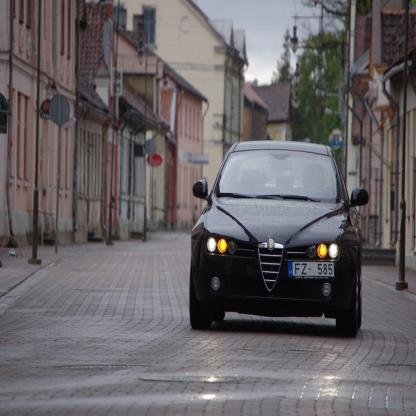Car: (190, 139, 369, 332)
